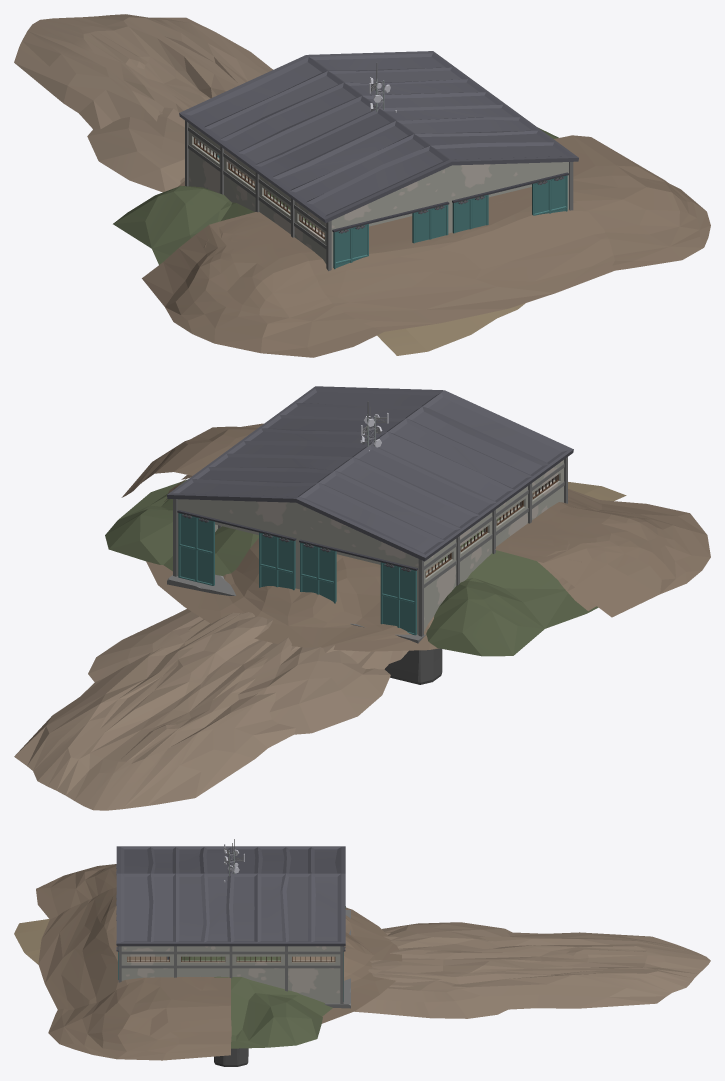
File: fruzer-polygon.glb
3 views of the same model, one above another, from view 1: azimuth 30°, elevation 25°; view 2: azimuth 150°, elevation 25°; view 3: azimuth 270°, elevation 25° (orthographic). The views are drawn at different scales.
Parts seen in each view (by area): view 1: root; view 2: root; view 3: root.
Part boxes in pixels (x1=…): root: x1=14, y1=14, x2=710, y2=357; root: x1=14, y1=386, x2=710, y2=810; root: x1=14, y1=839, x2=710, y2=1066.
Bounding box in the file's own units: 4414 × 2108 × 6573.
7 materials, 7 textured.
